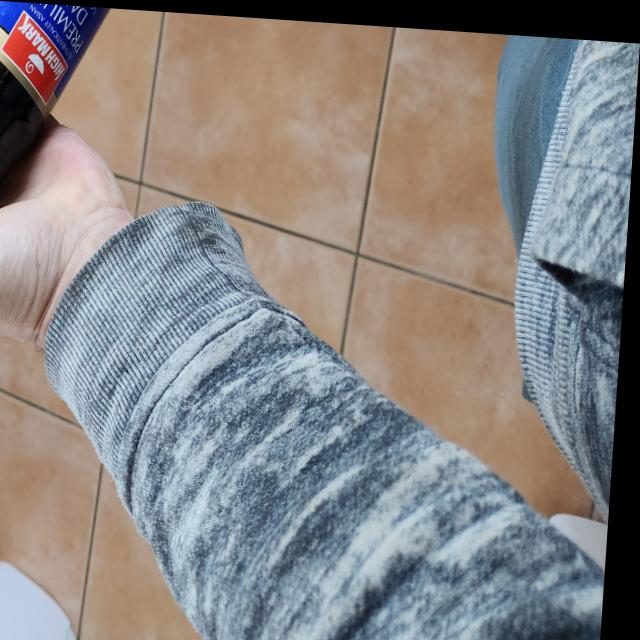soy sauce: (0, 0, 149, 379)
